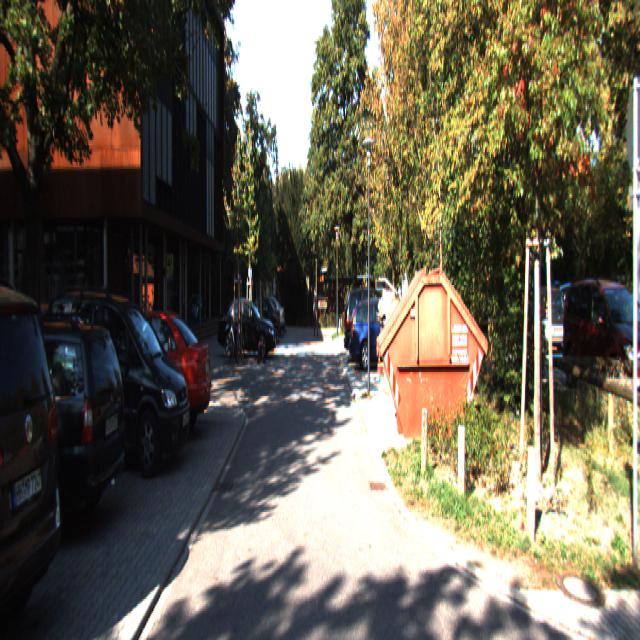Car: (0, 307, 133, 548), (39, 280, 194, 479), (0, 260, 73, 638), (81, 306, 213, 443), (560, 274, 640, 414), (350, 294, 414, 370), (344, 283, 404, 362), (219, 298, 278, 357)
